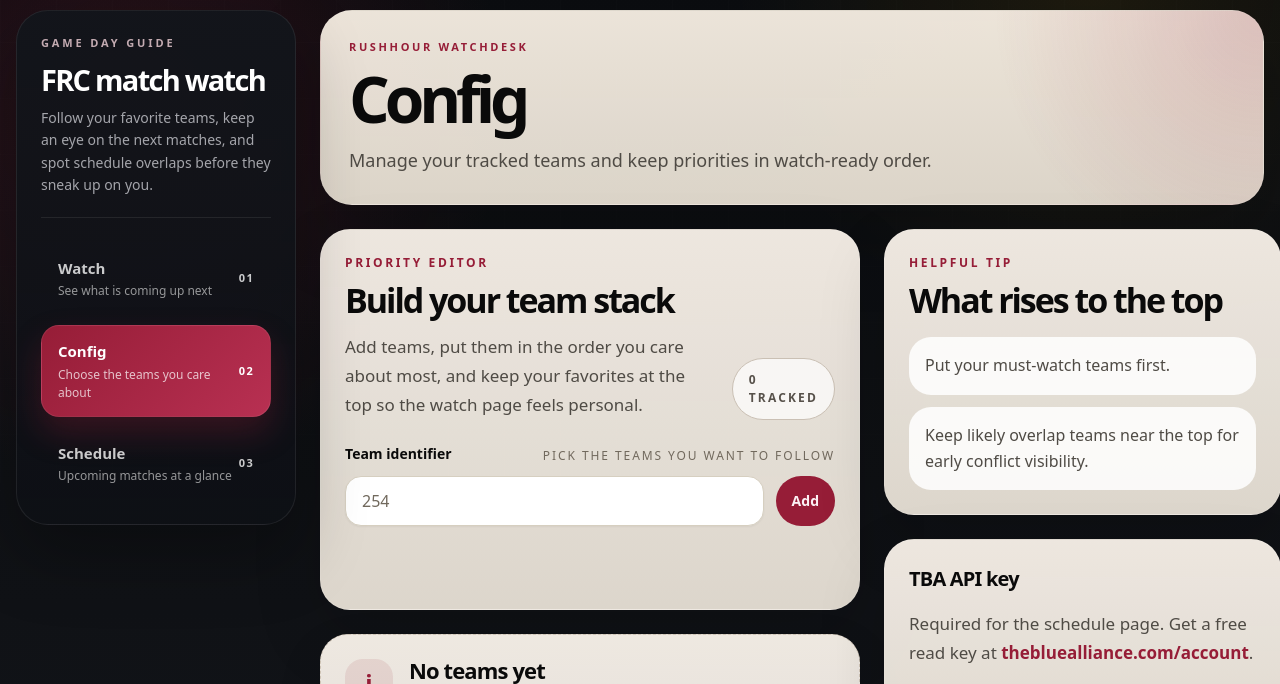
it: config page › adds and removes teams
This screenshot has width=1280, height=684.
Type "frc254" into the field labelled "Team identifier".
click(554, 501); type("frc254")  # box x1=345 y1=476 x2=764 y2=526
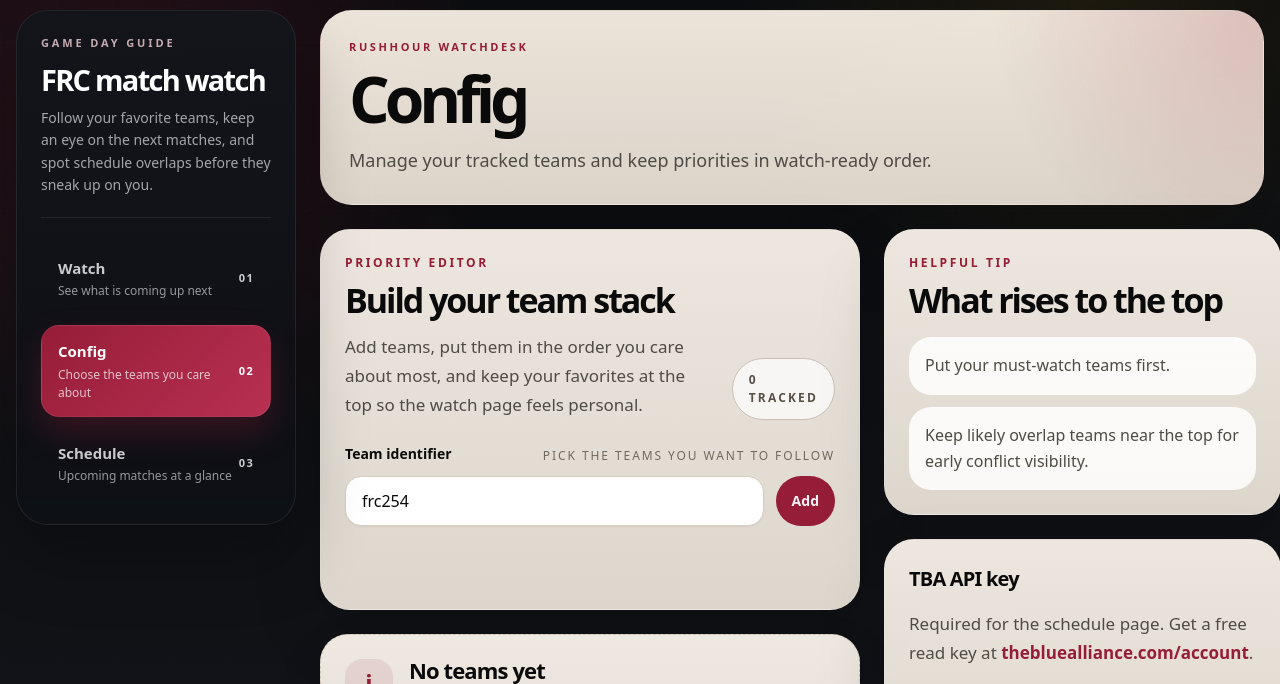
Click the button "Add".
click(805, 501)  # box x1=776 y1=476 x2=835 y2=526
(page scrolled)
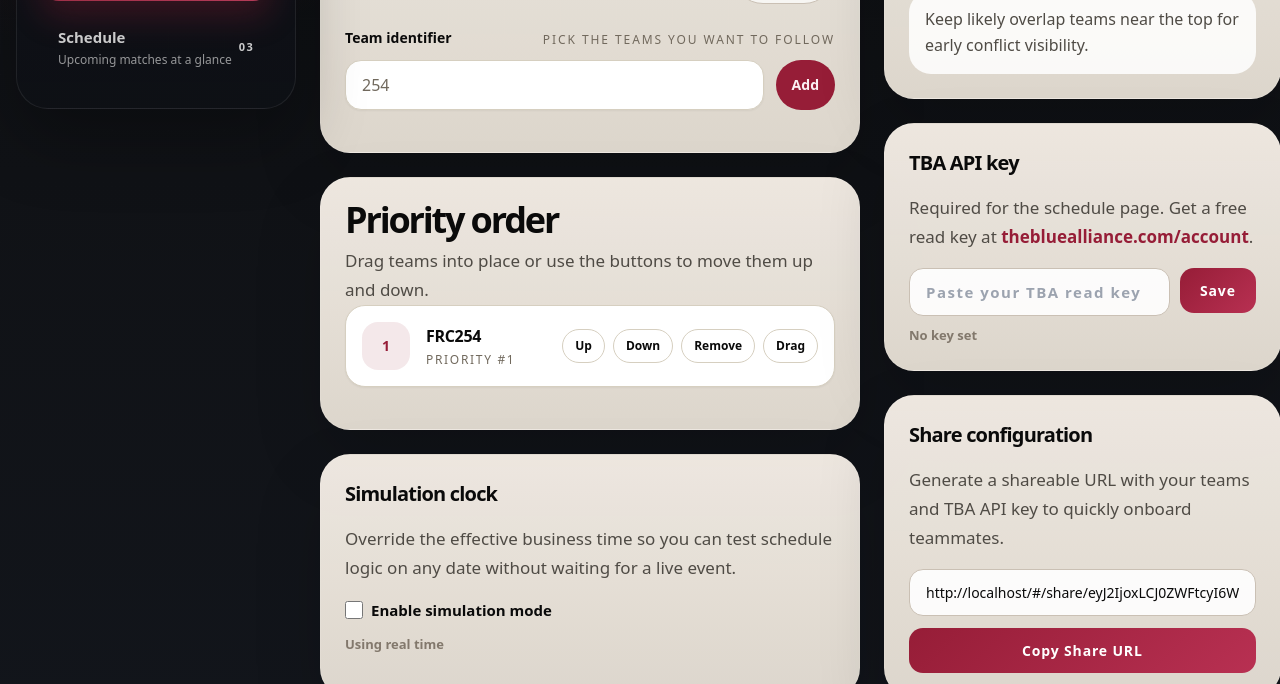
Expected: the text "FRC254" is shown, x1=426 y1=325 x2=481 y2=347
Click the button "Remove".
click(718, 346)  # box x1=681 y1=329 x2=755 y2=363
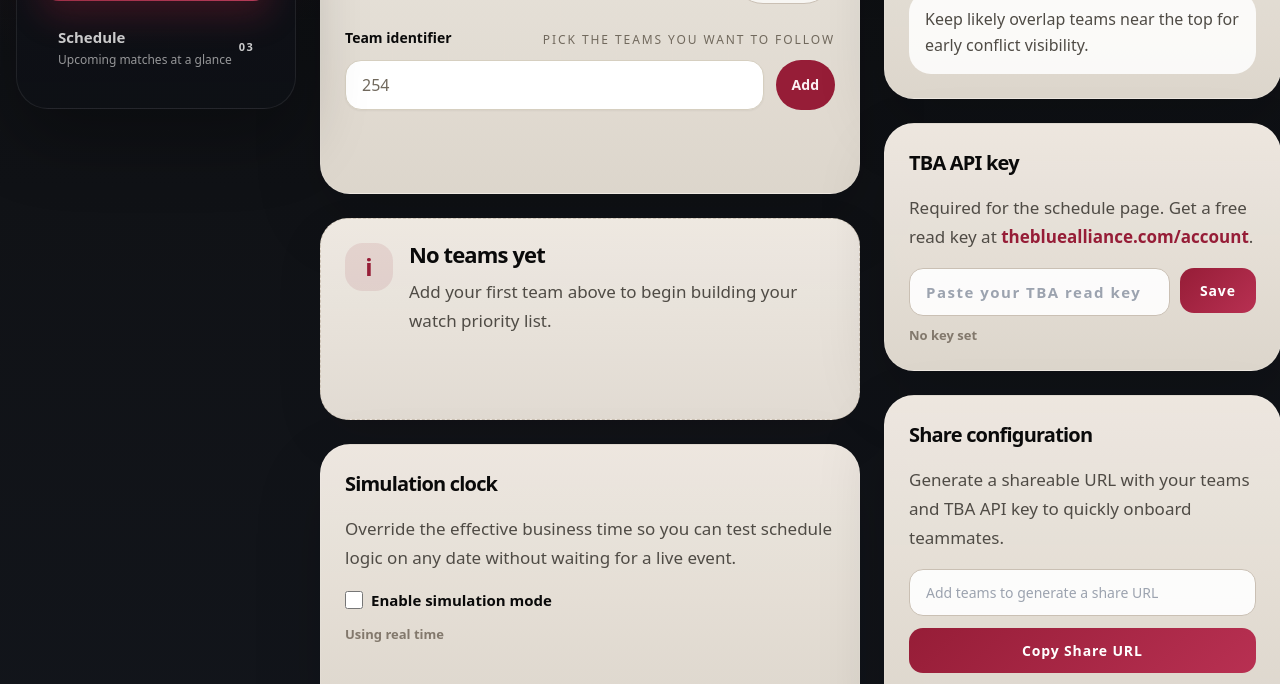
Expected: the text "FRC254" is gone
